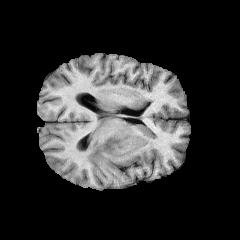glioma: (84, 121, 152, 163)
